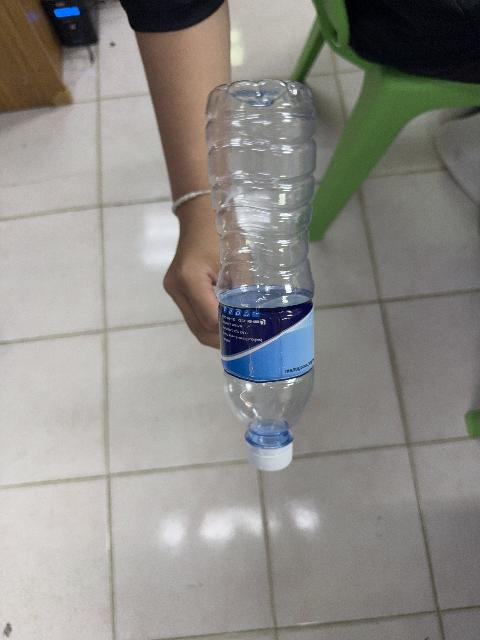bottle: (207, 80, 316, 470)
